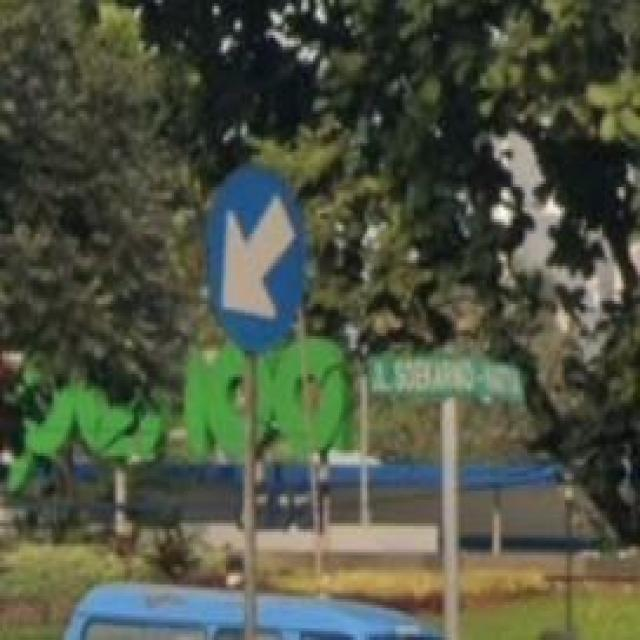traffic sign: (210, 167, 297, 354)
